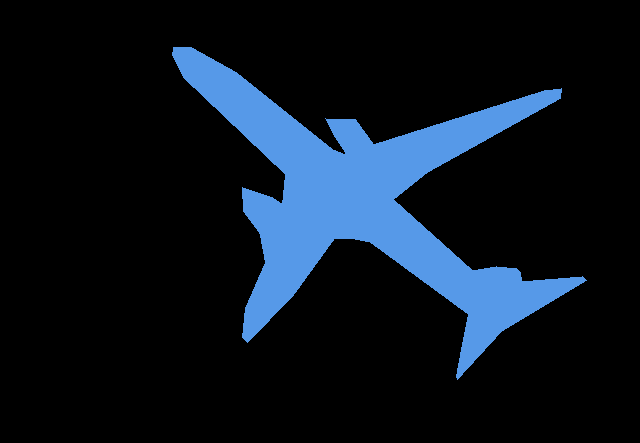Airplane: (172, 47, 587, 380)
